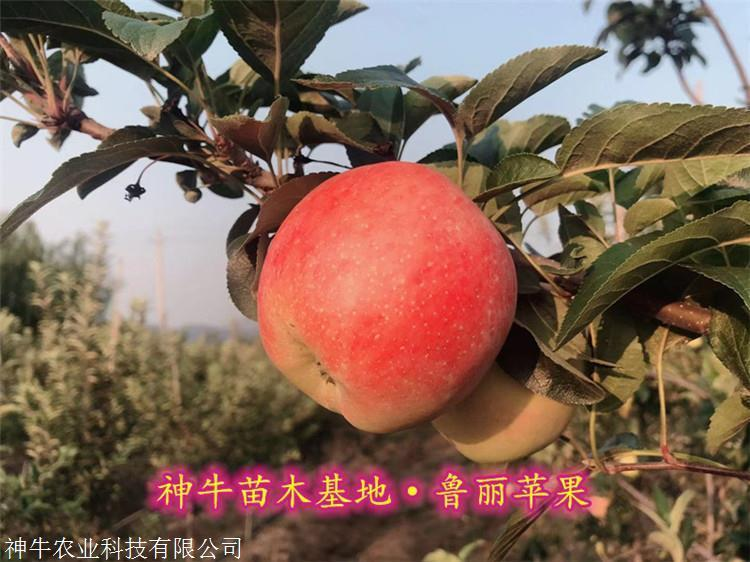apple: (250, 158, 519, 436)
